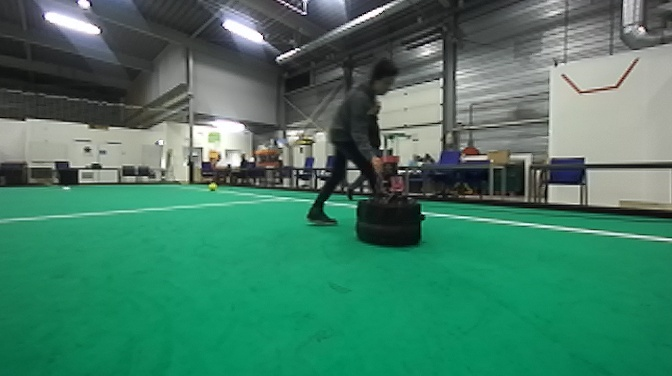ball: (207, 182, 219, 192)
human: (309, 60, 401, 225)
robot: (356, 131, 420, 248)
